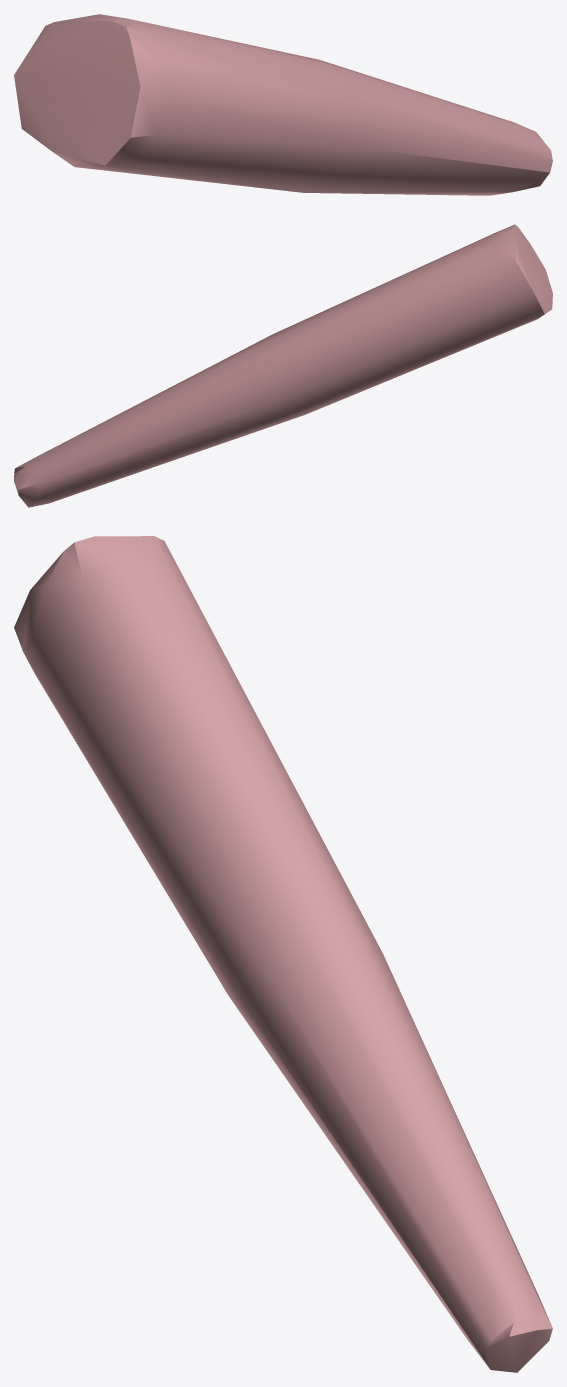
Rendered from fma68228_fj6525.glb.
3 renders of one model, top to bottom at view 1: azimuth 30°, elevation 25°; view 2: azimuth 150°, elevation 25°; view 3: azimuth 270°, elevation 25°, orthographic. The views are drawn at different scales.
Visible parts, largest first — view 1: FMA68228_FJ6525; view 2: FMA68228_FJ6525; view 3: FMA68228_FJ6525.
Part boxes in pixels (x1,y1,x2,y2): FMA68228_FJ6525: (14, 14, 552, 195); FMA68228_FJ6525: (14, 224, 552, 507); FMA68228_FJ6525: (14, 536, 552, 1372).
Size of the model in its own units: 0.0219 by 0.0138 by 0.0132.
